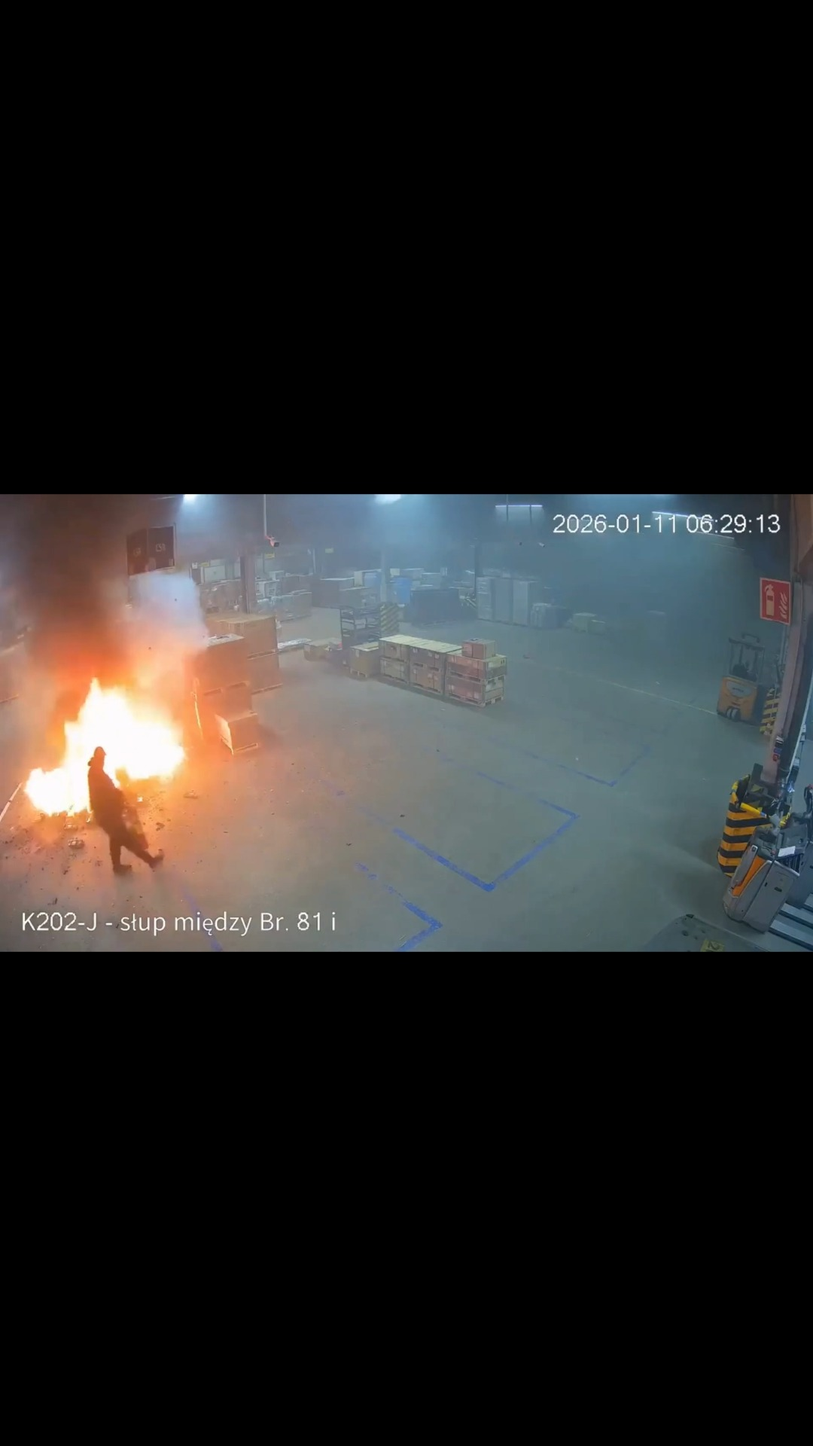fire: (17, 642, 194, 825)
smoke: (1, 496, 218, 697)
